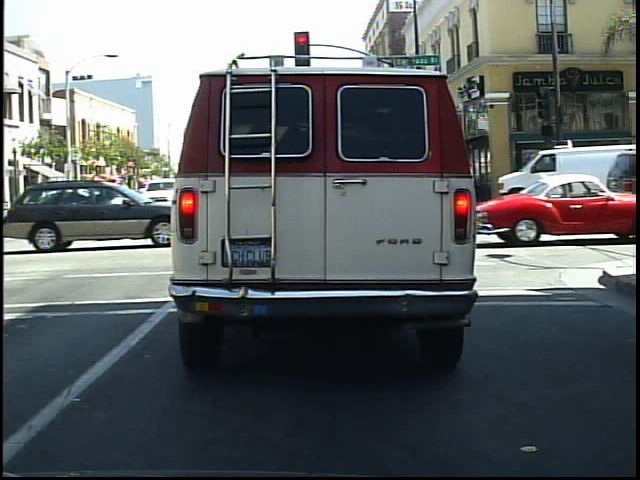person: (586, 142, 611, 209), (538, 152, 562, 210), (513, 155, 535, 207)
